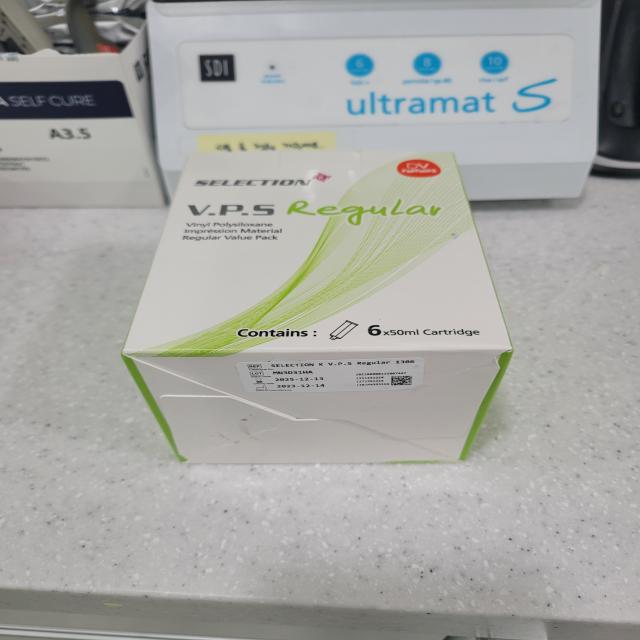impression: (116, 135, 536, 504)
